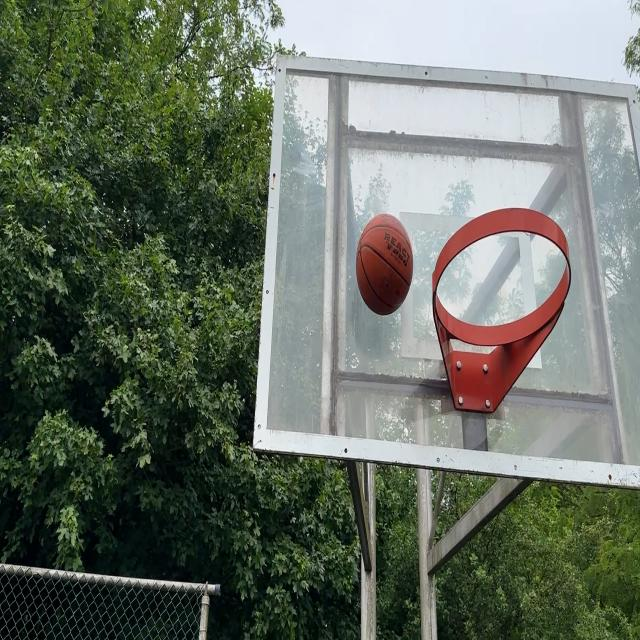Basketball: (356, 211, 412, 315)
